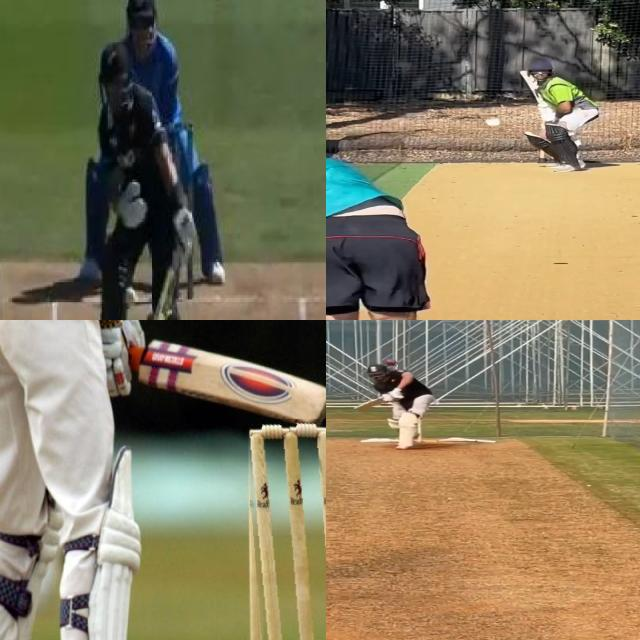Cricket ball: (481, 115, 505, 131), (123, 284, 138, 309), (385, 359, 398, 367)
Stumps: (244, 419, 326, 640)
